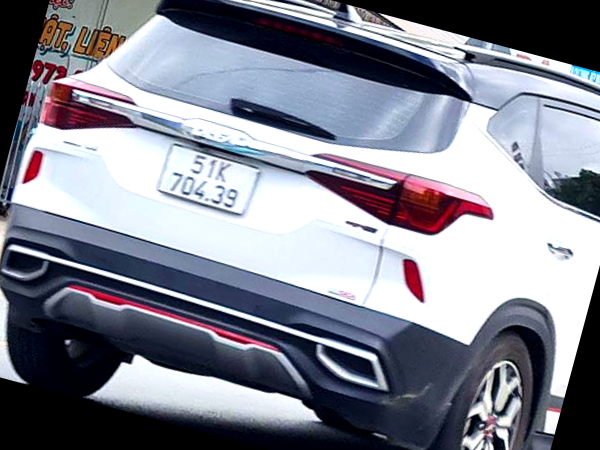lisence: (158, 145, 260, 216)
